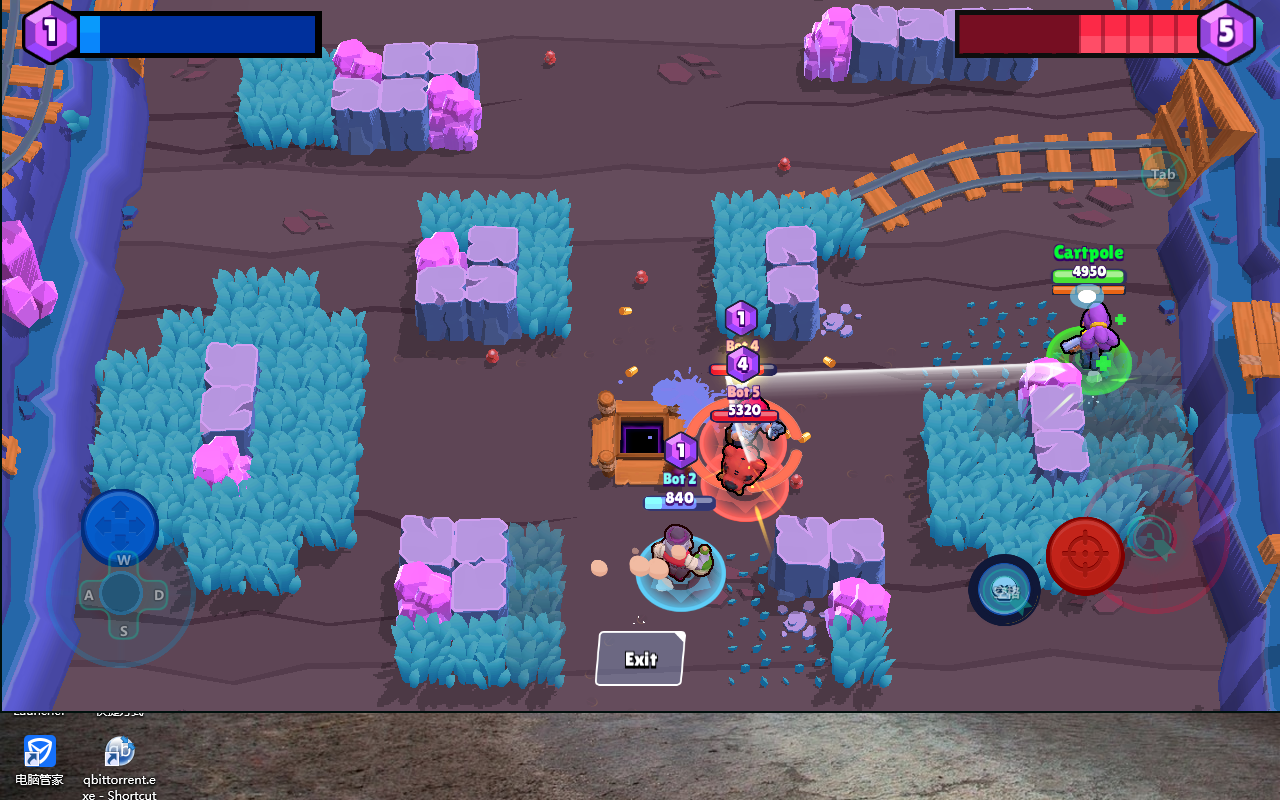current_player: (412, 326, 496, 388)
